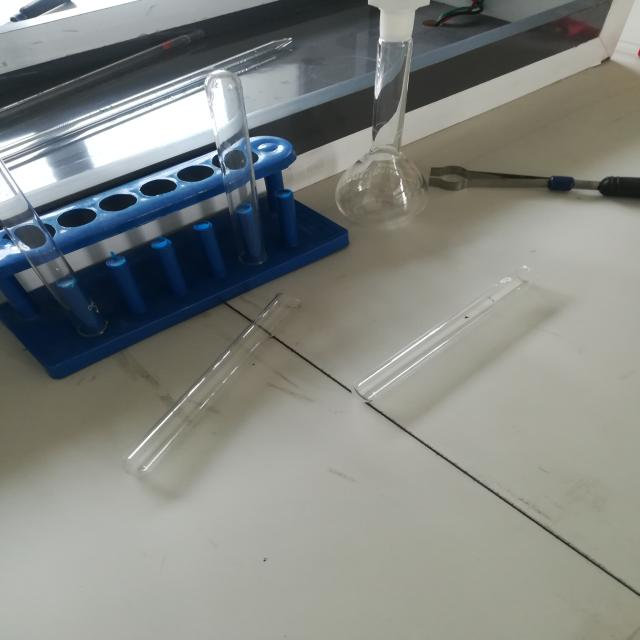TestTube_Holder: (435, 138, 640, 232)
Test_Tube: (113, 273, 353, 502), (330, 253, 575, 421), (164, 60, 284, 288)
Volumetric_Flask: (323, 2, 433, 235)
